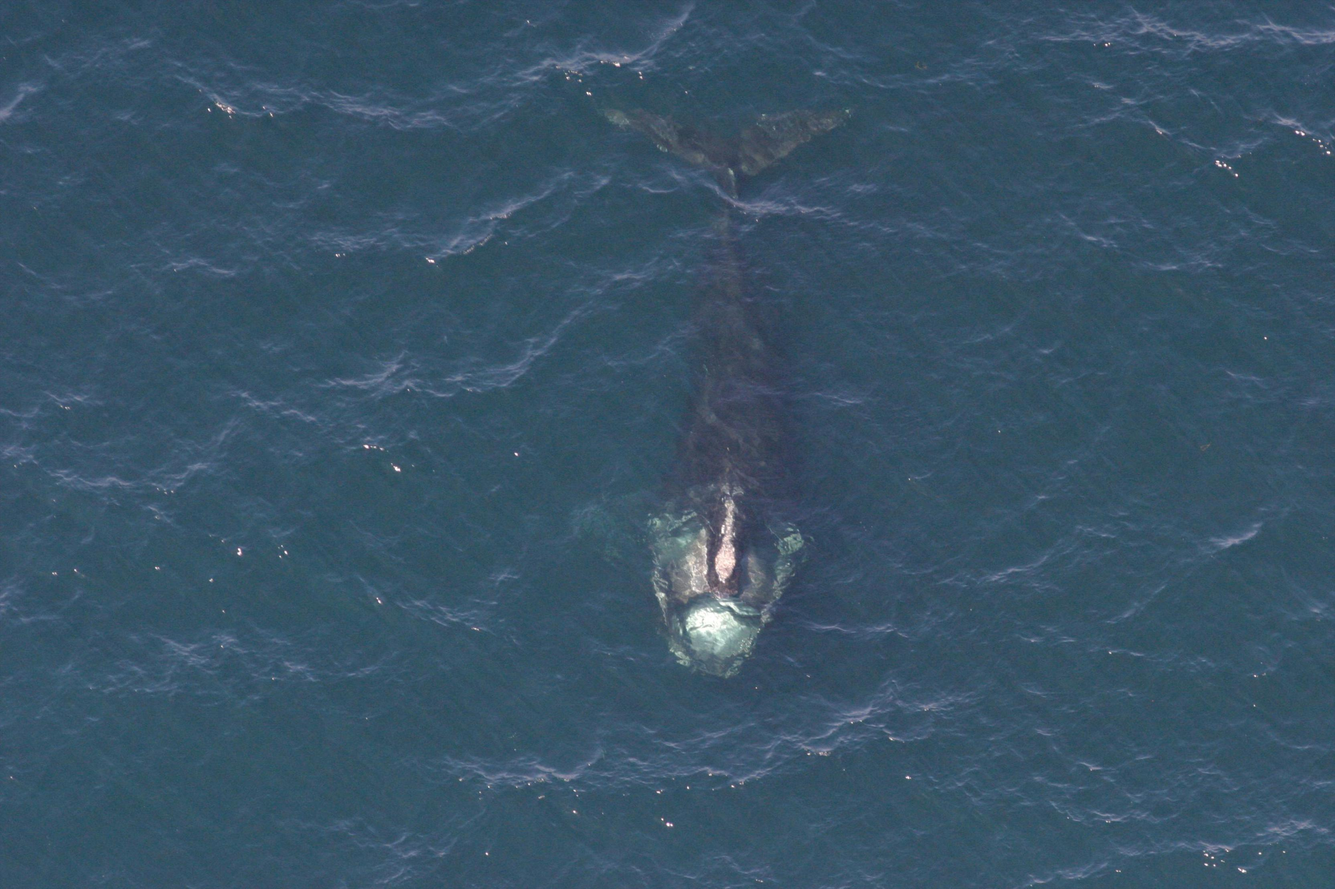whale: (584, 96, 864, 686)
